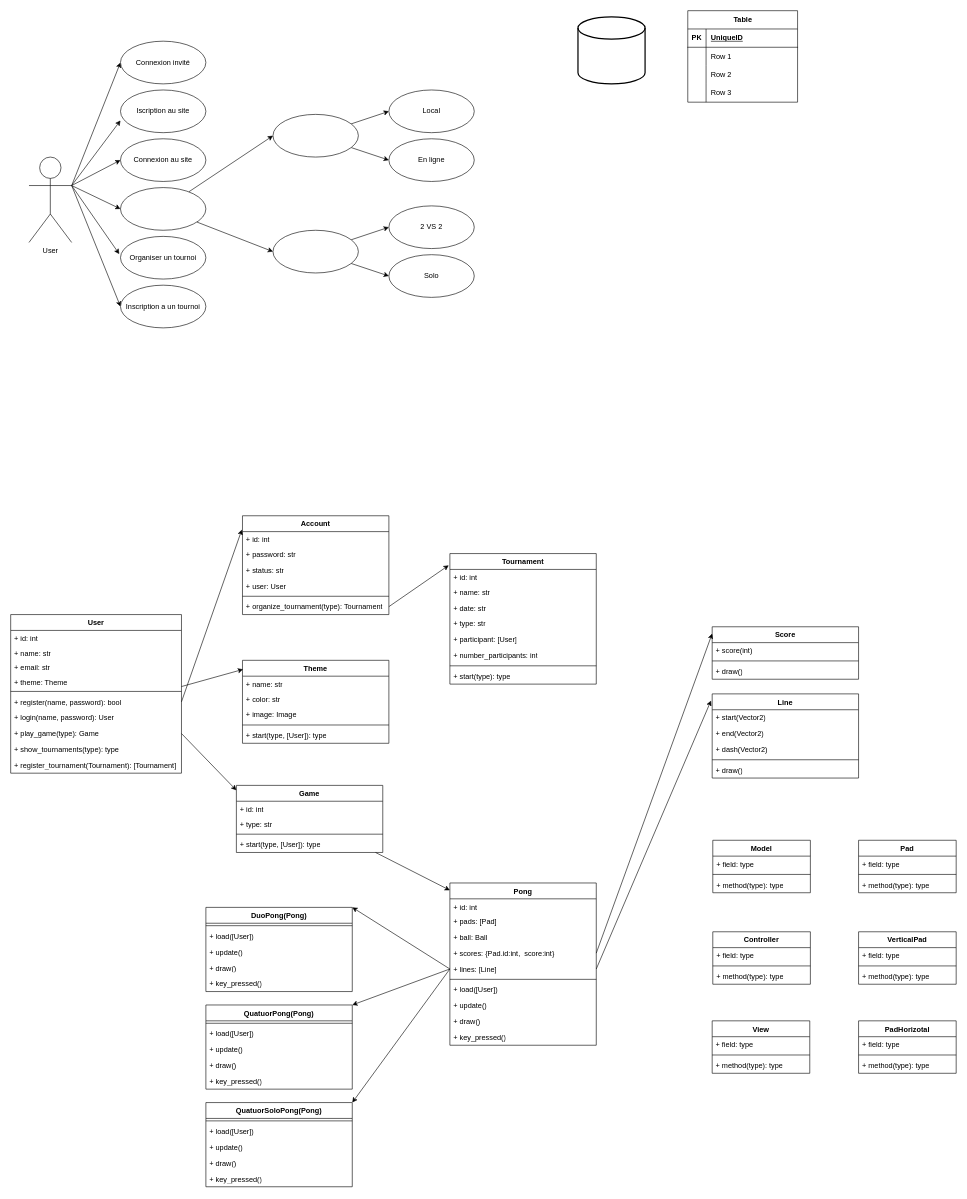
Some shapes in this 967 by 1199 pixel diagram are drawn without their labels. The centre of each missing label's shape, as x and y in pixels:
"2 joueur" belongs at (315,135).
"4 joueur" belongs at (315,251).
"DataBase" belongs at (611,50).
"Jouer au pong" belongs at (163,208).
